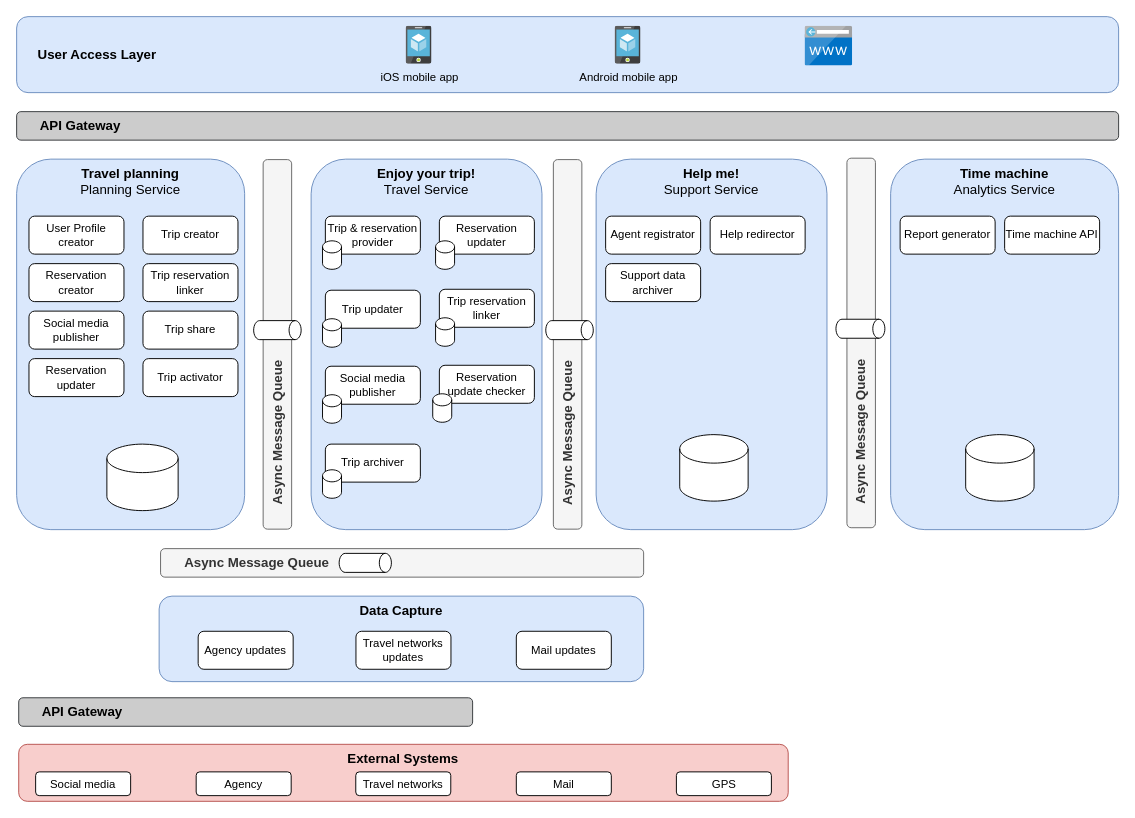
This 1135x818 diagram has some shape labels left out. The centre of each missing label's shape, as x and y in pixels:
OLAP data system: [999,467]
Planning data service: [142,477]
Support data service: [713,467]
Web application: [828,46]
